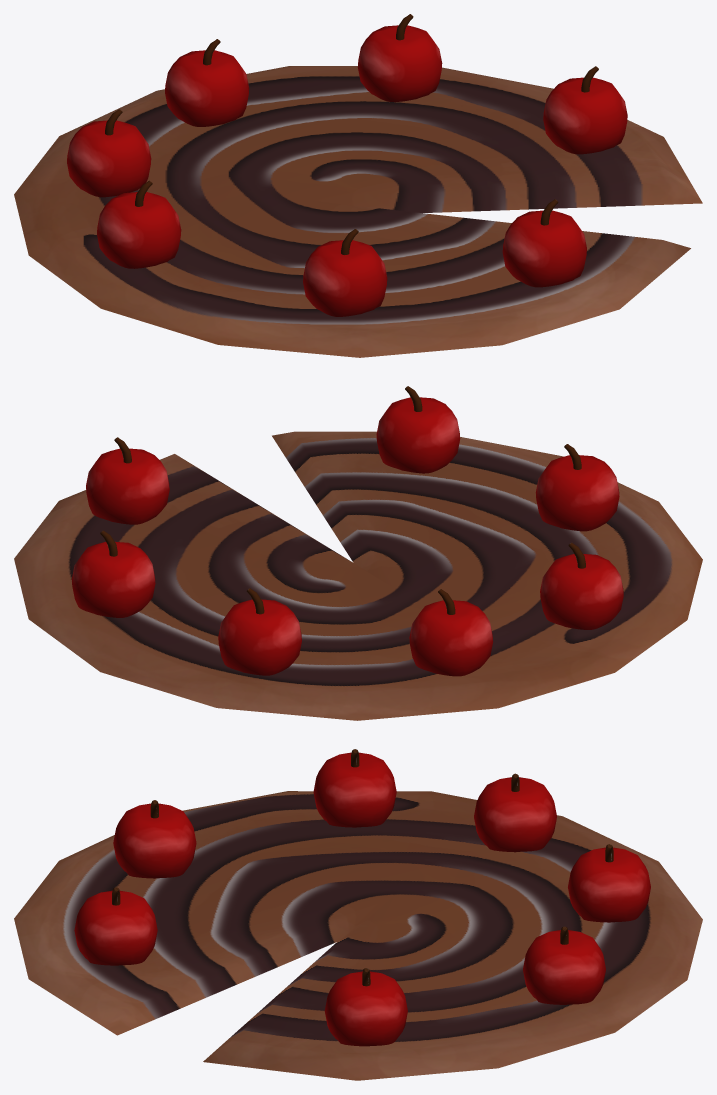
The model's file is Cake (1).fbx.
3 views of the same model, one above another, from view 1: azimuth 30°, elevation 25°; view 2: azimuth 150°, elevation 25°; view 3: azimuth 270°, elevation 25° (orthographic).
Visible parts, largest first — view 1: cake1; view 2: cake1; view 3: cake1.
Boxes of the visible parts, x1,y1,x2,y2 form: cake1: [14, 14, 702, 357]; cake1: [14, 386, 702, 720]; cake1: [14, 749, 702, 1080].
Bounding box in the file's own units: 96.73 × 12.75 × 97.24.
